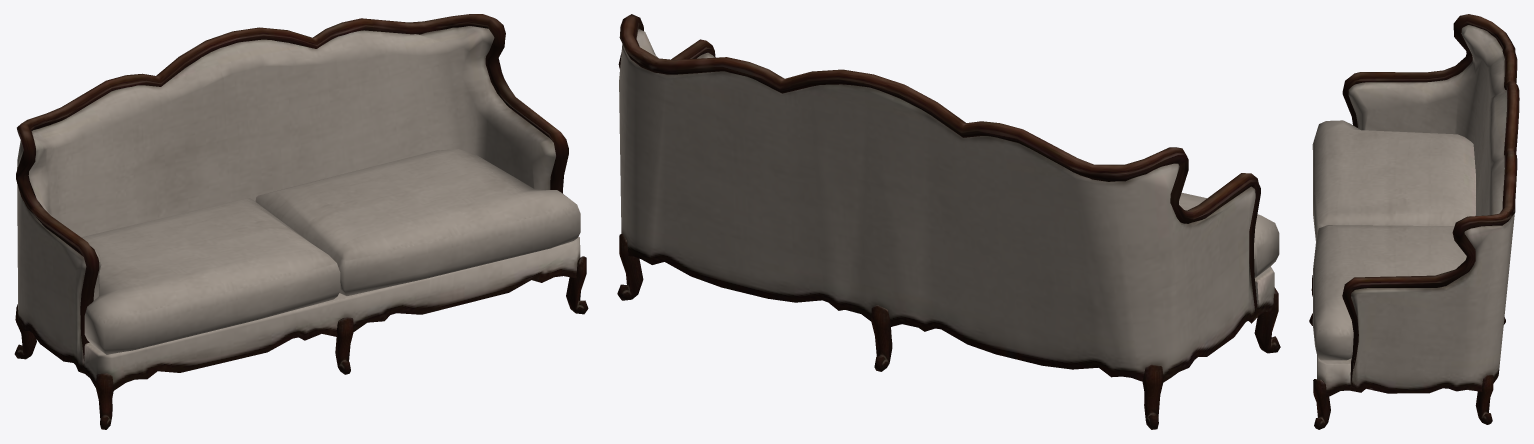
File: Sofa_01.glb
The picture shows the model from 3 angles, left to right: view 1: azimuth 30°, elevation 25°; view 2: azimuth 150°, elevation 25°; view 3: azimuth 270°, elevation 25°; orthographic projection. The views are drawn at different scales.
Parts seen in each view (by area): view 1: Sofa_01; view 2: Sofa_01; view 3: Sofa_01.
Boxes of the visible parts, x1=… form: Sofa_01: x1=14, y1=14, x2=588, y2=429; Sofa_01: x1=617, y1=14, x2=1280, y2=429; Sofa_01: x1=1309, y1=14, x2=1519, y2=429.
Bounding box in the file's own units: 1.57 × 0.7953 × 0.658.
1 material, 1 textured.
